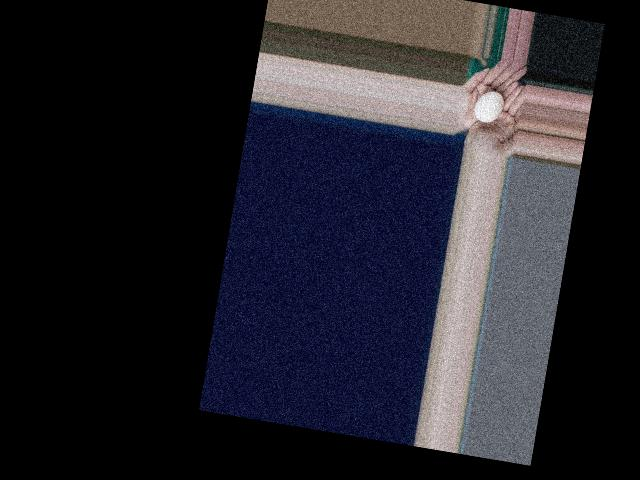egg: (473, 88, 505, 124)
